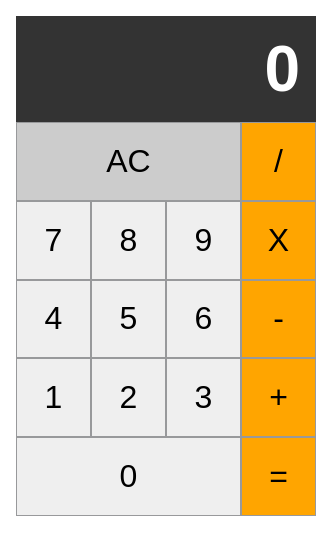
Scenario: Calculator › appends digits to the sum correctly
This screenshot has width=333, height=533.
Click the button "1" at (54,398), box [16,358,91,437]
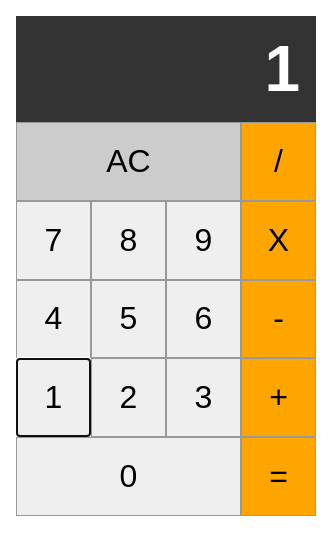
Click the button "2" at (128,398), box [91,358,166,437]
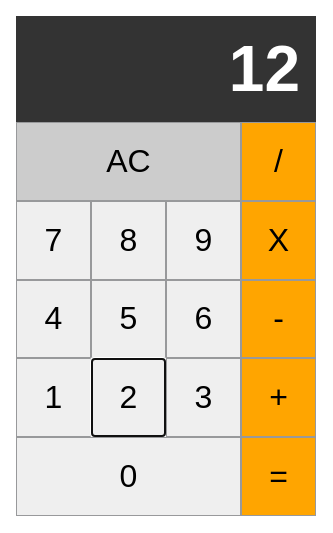
Expected: the heading reads "12", [229,33,300,105]
